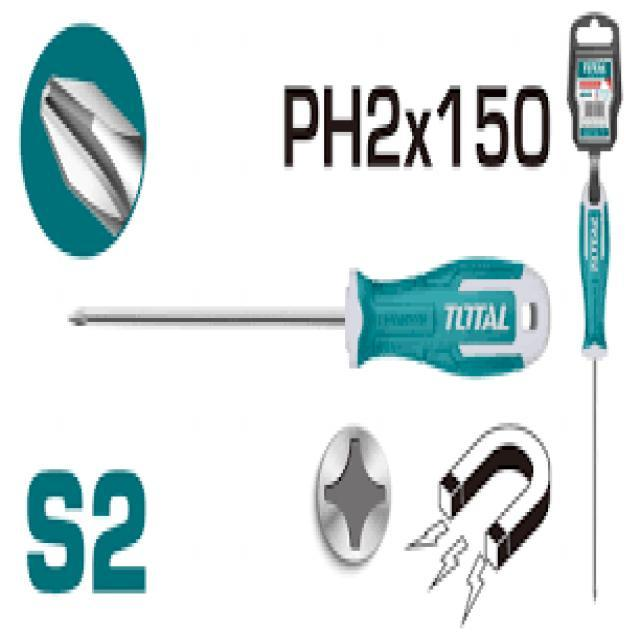screwdriver: (65, 252, 550, 388), (574, 178, 612, 606)
